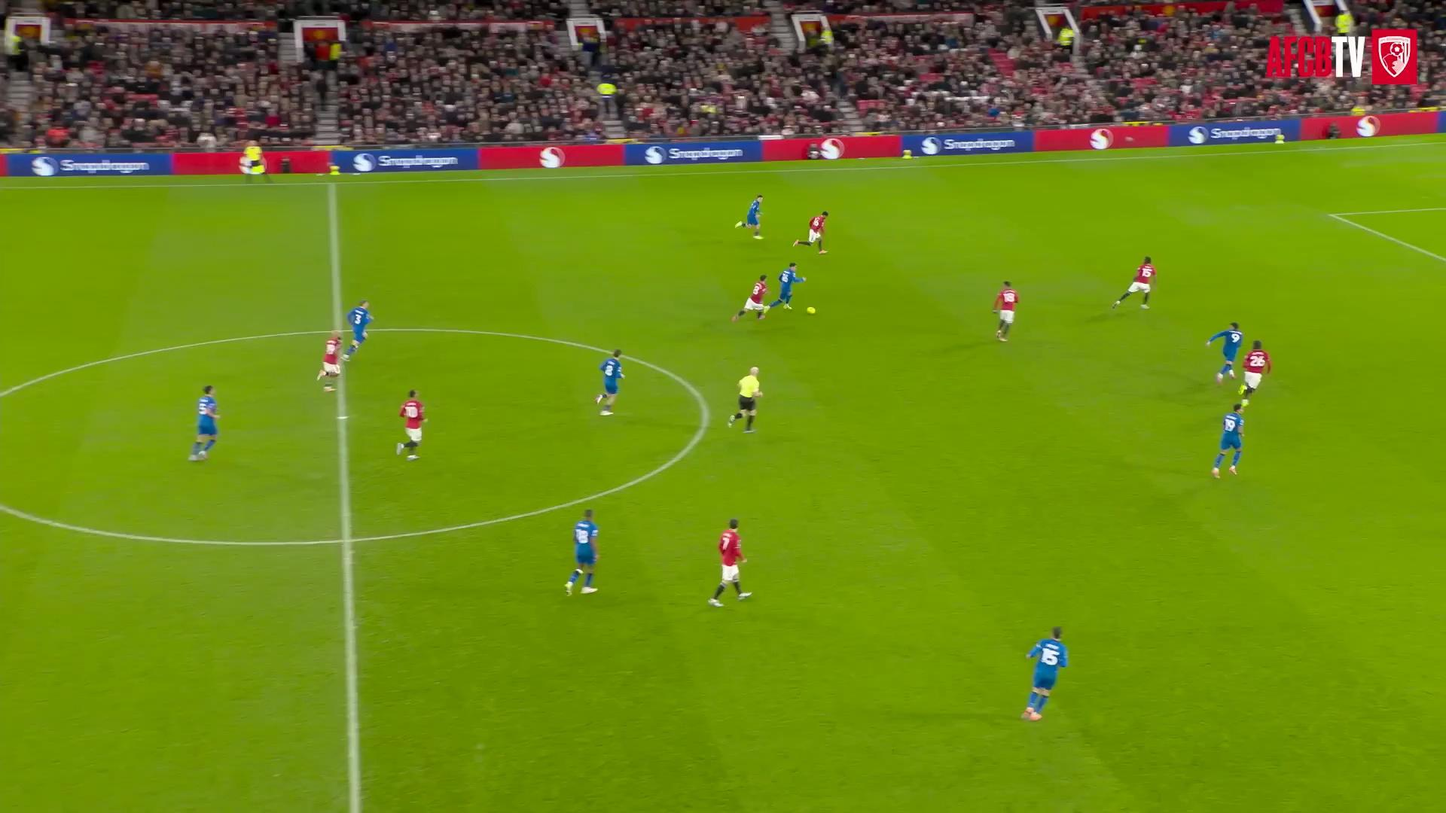football: (805, 301, 821, 321)
player: (1022, 626, 1067, 720), (709, 519, 751, 606), (565, 510, 597, 595), (1211, 403, 1244, 479), (1112, 256, 1156, 309), (188, 385, 218, 461), (1207, 322, 1243, 384), (1240, 340, 1272, 405), (765, 262, 806, 312), (396, 391, 426, 459), (595, 349, 624, 415), (343, 300, 372, 360), (732, 274, 767, 321), (793, 211, 828, 254), (317, 331, 341, 391), (993, 281, 1017, 341), (735, 195, 762, 239)
referee: (728, 367, 762, 433), (241, 140, 271, 182)
